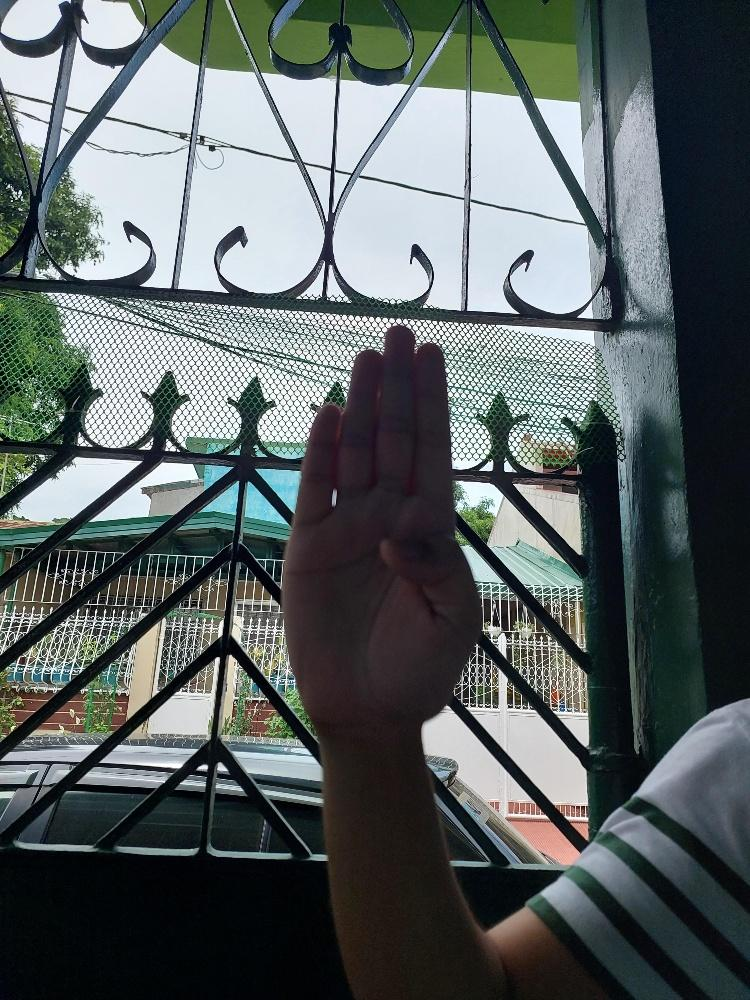b: (277, 318, 486, 741)
